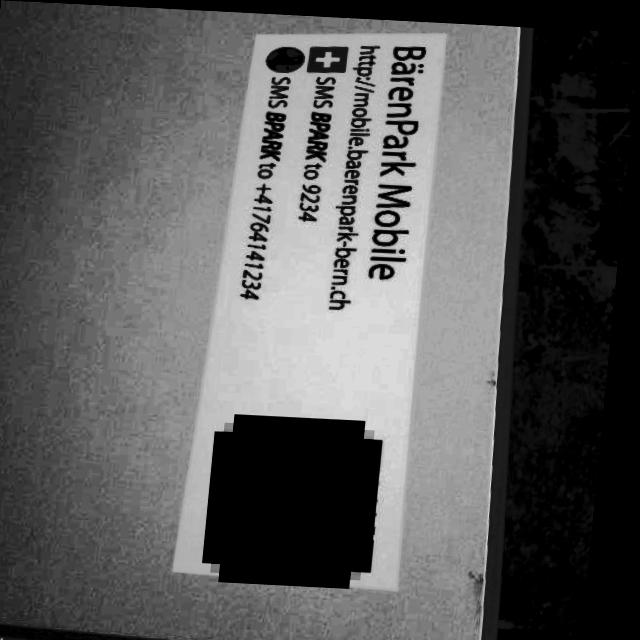qr_code: (221, 420, 382, 576)
